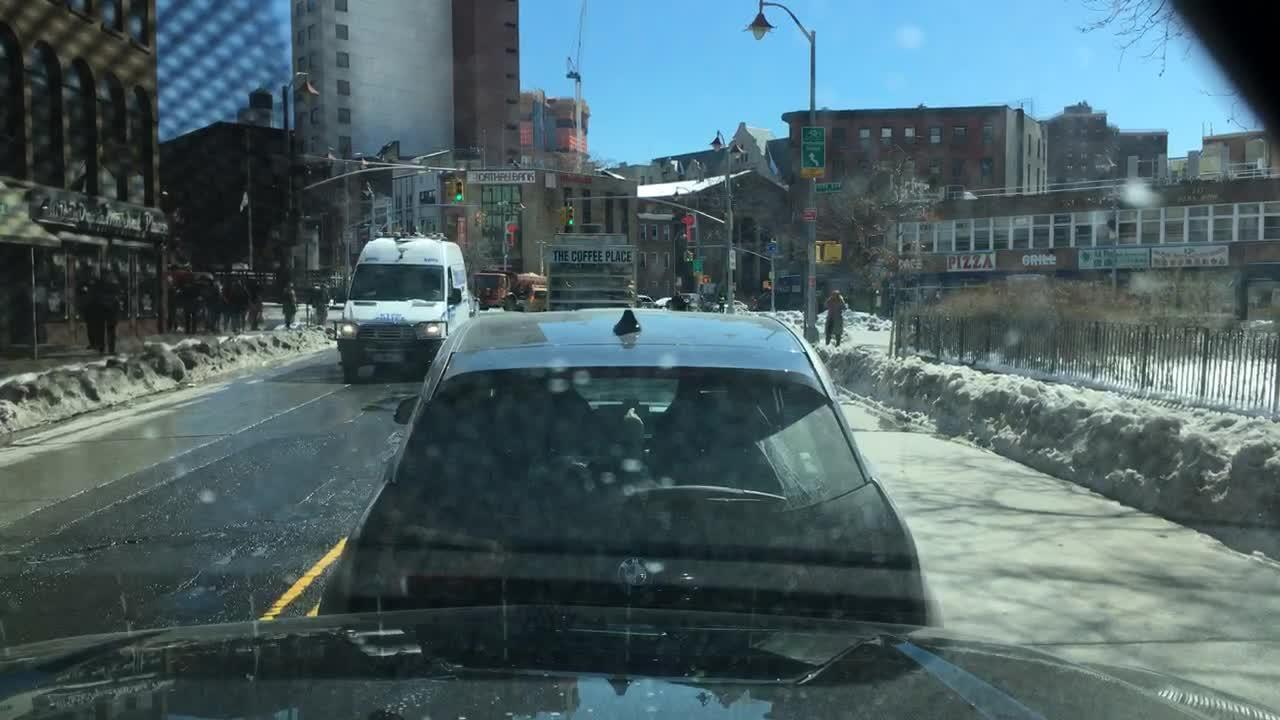bmw: (616, 549, 652, 591)
